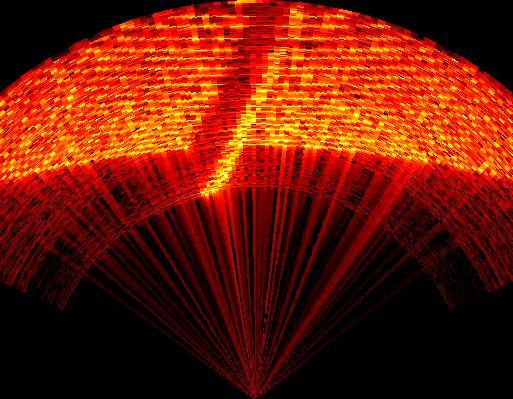pipe: (182, 2, 300, 194)
